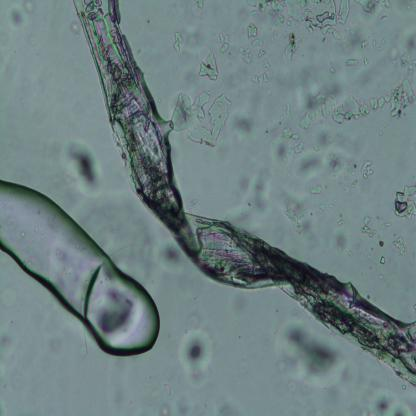Air bubble: (0, 175, 161, 357)
Background material: (298, 78, 415, 134), (275, 322, 344, 393), (247, 2, 353, 47), (174, 84, 232, 150), (62, 135, 100, 190), (179, 331, 213, 388), (305, 133, 345, 179), (278, 192, 314, 234), (371, 383, 412, 416), (237, 174, 270, 215), (274, 123, 304, 166), (242, 22, 270, 68), (392, 179, 416, 224), (157, 238, 186, 275), (394, 30, 416, 70), (229, 110, 259, 139), (214, 394, 246, 416), (284, 32, 304, 64), (171, 391, 195, 416), (6, 4, 27, 29), (199, 53, 218, 80), (0, 284, 19, 310), (352, 24, 370, 50), (156, 397, 178, 416), (171, 25, 185, 54), (0, 331, 15, 358), (360, 216, 376, 240), (217, 31, 232, 55), (67, 18, 84, 39), (358, 2, 380, 18), (332, 228, 348, 250), (156, 379, 174, 398), (250, 71, 270, 88), (392, 234, 406, 258), (52, 247, 72, 263), (360, 158, 375, 178), (358, 396, 372, 416), (280, 98, 291, 118), (347, 161, 356, 185), (320, 201, 334, 216), (22, 0, 38, 13), (51, 337, 62, 353), (308, 184, 324, 195), (344, 57, 360, 67), (335, 211, 346, 225), (327, 62, 337, 76), (28, 34, 38, 48), (382, 0, 393, 11), (362, 54, 370, 69), (196, 1, 205, 13), (356, 238, 366, 248), (380, 254, 386, 266), (380, 13, 388, 22), (18, 228, 26, 237), (379, 240, 386, 250), (381, 221, 390, 228), (382, 35, 388, 45), (128, 398, 134, 405), (136, 47, 141, 55), (372, 39, 376, 48), (35, 226, 39, 235), (348, 250, 352, 258), (146, 18, 151, 24), (156, 98, 161, 104)
Cotton: (75, 0, 416, 379)
